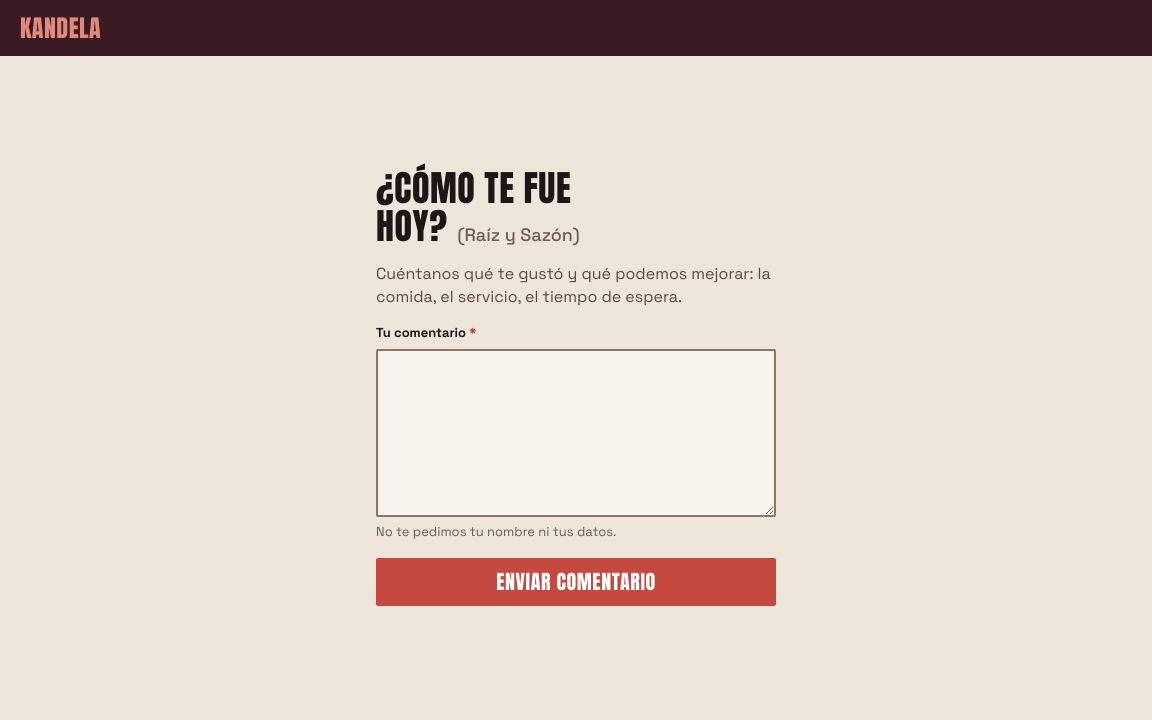
Test: ResenaCliente › envía el comentario con la mesa del QR y solo agradece
In the text box labelled "Tu comentario *": point(576, 433) [376,349,776,517], type "  La sopa llegó fría.  "
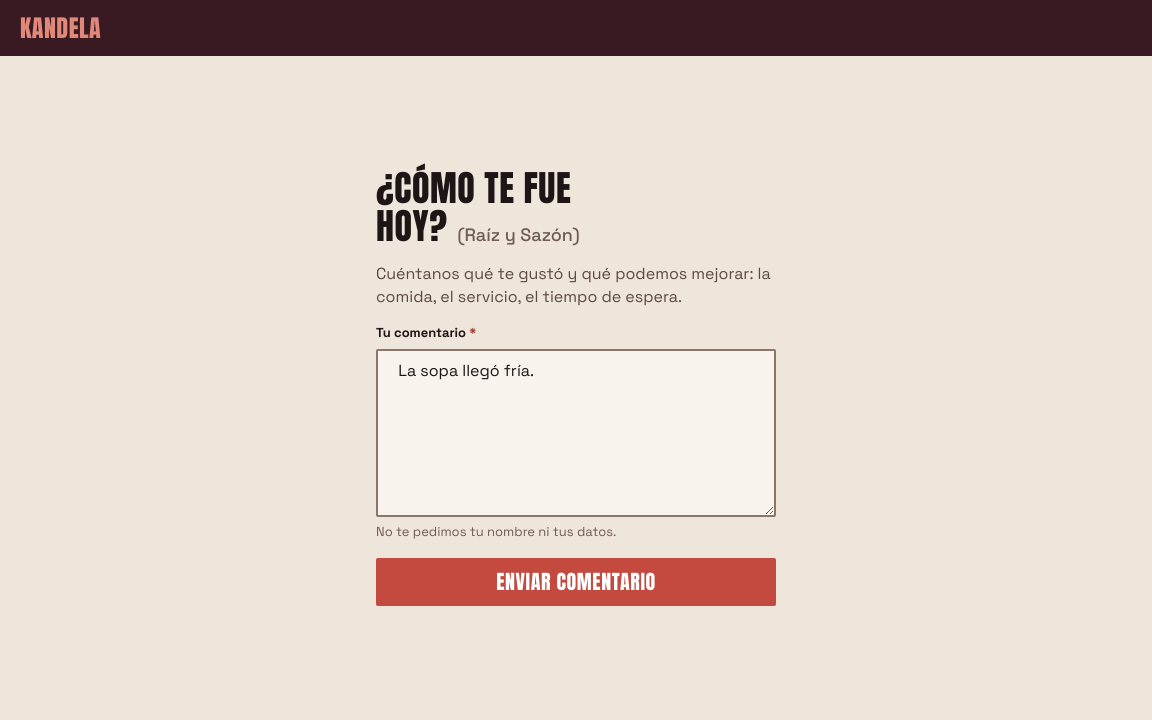
Click the button "Enviar comentario": point(576, 582) [376,558,776,606]
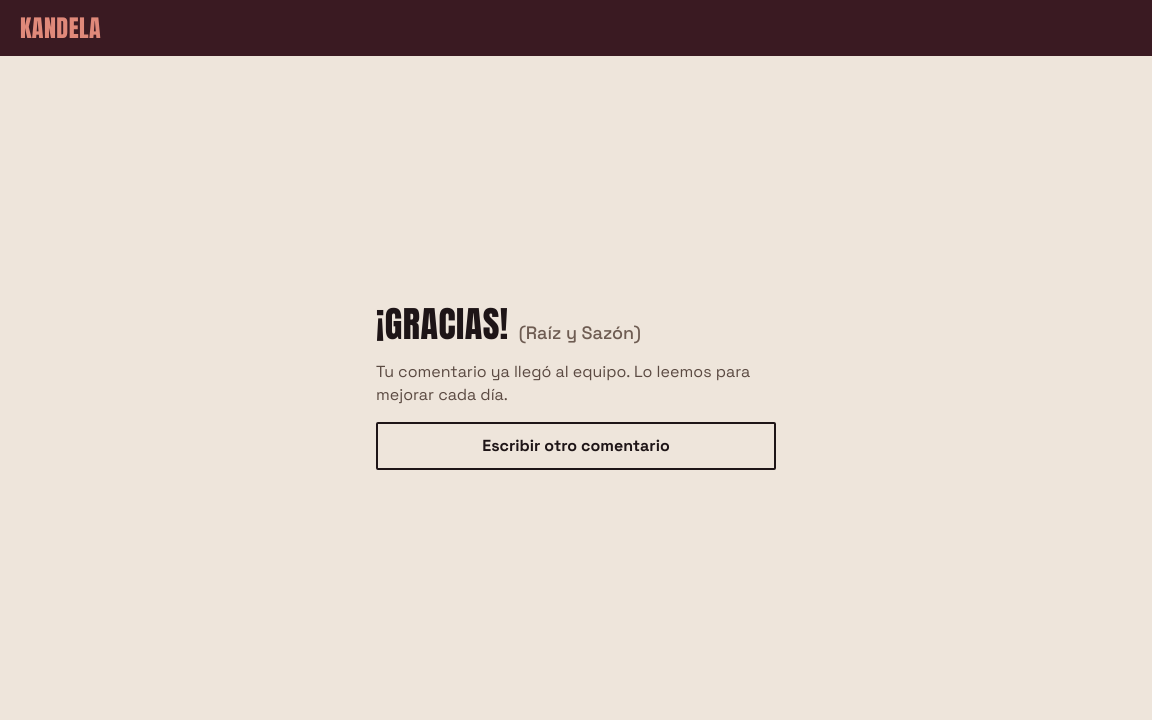
Expected: the heading "¡Gracias! (Raíz y Sazón)" is shown, [376,297,641,351]
